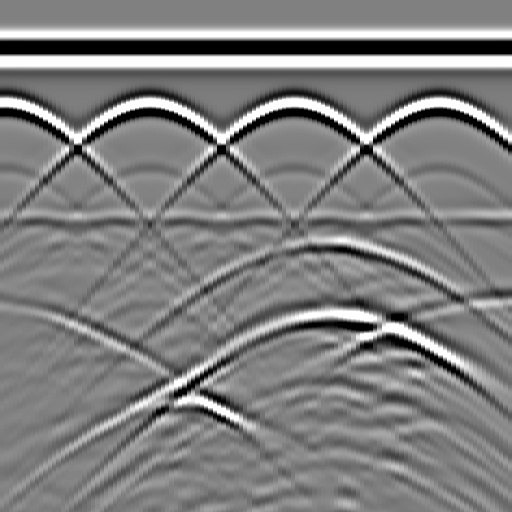grout_surface: (1, 205, 512, 235)
rebar: (127, 86, 167, 126), (271, 86, 311, 126), (416, 86, 456, 126)
rock_surface: (1, 299, 511, 402)
water_void: (295, 219, 355, 259)
